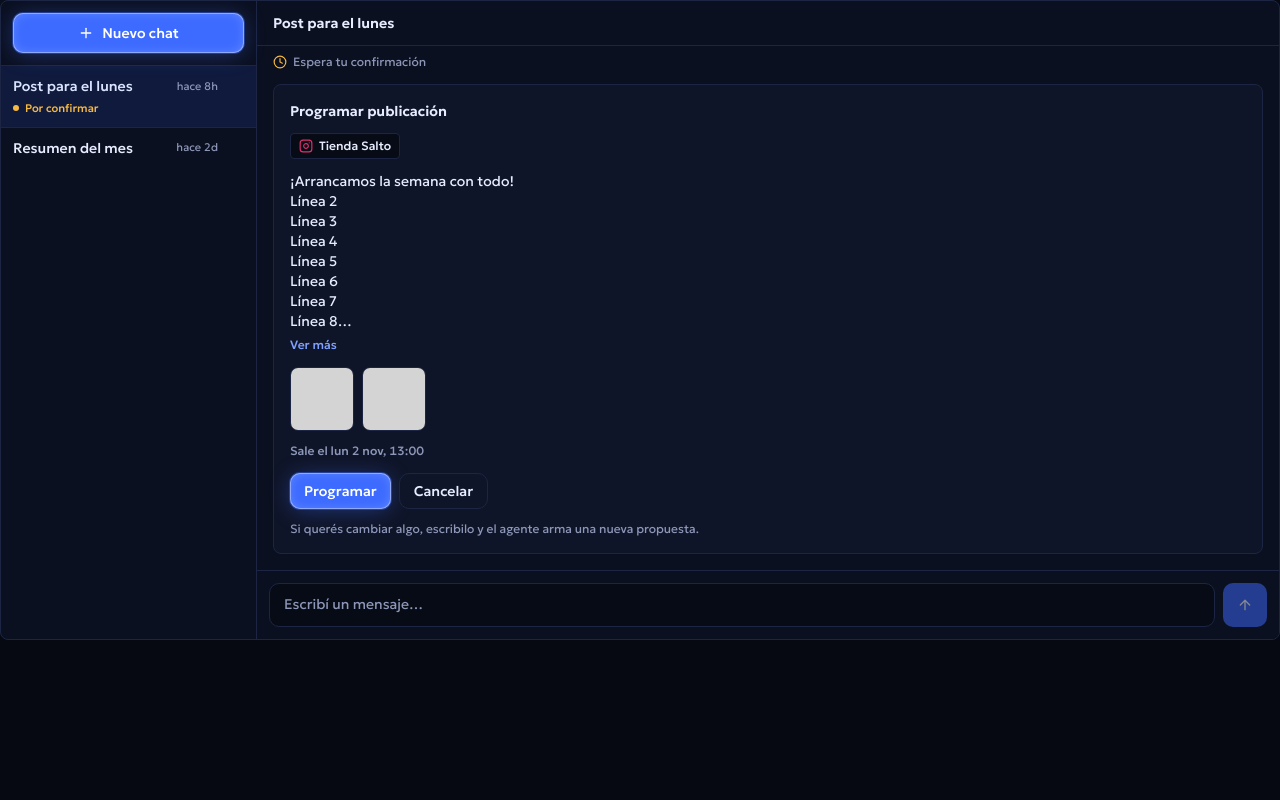
it: Agente — tarjeta de confirmación (confirmar y cancelar) › renderiza la vista previa y al confirmar pega a /actions/{id}/confirm, actualiza el chat e invalida publicaciones
(page scrolled)
Check: the heading "Programar publicación" is shown, box [290,102,447,120]
Check: the text "Tienda Salto" is shown, box [319,138,391,154]
# Long text offers "Ver más"
What coordinates should you click on to do the following:
click the button "Ver más"
I would click on:
 (313, 344)
Its box is [290,336,337,352].
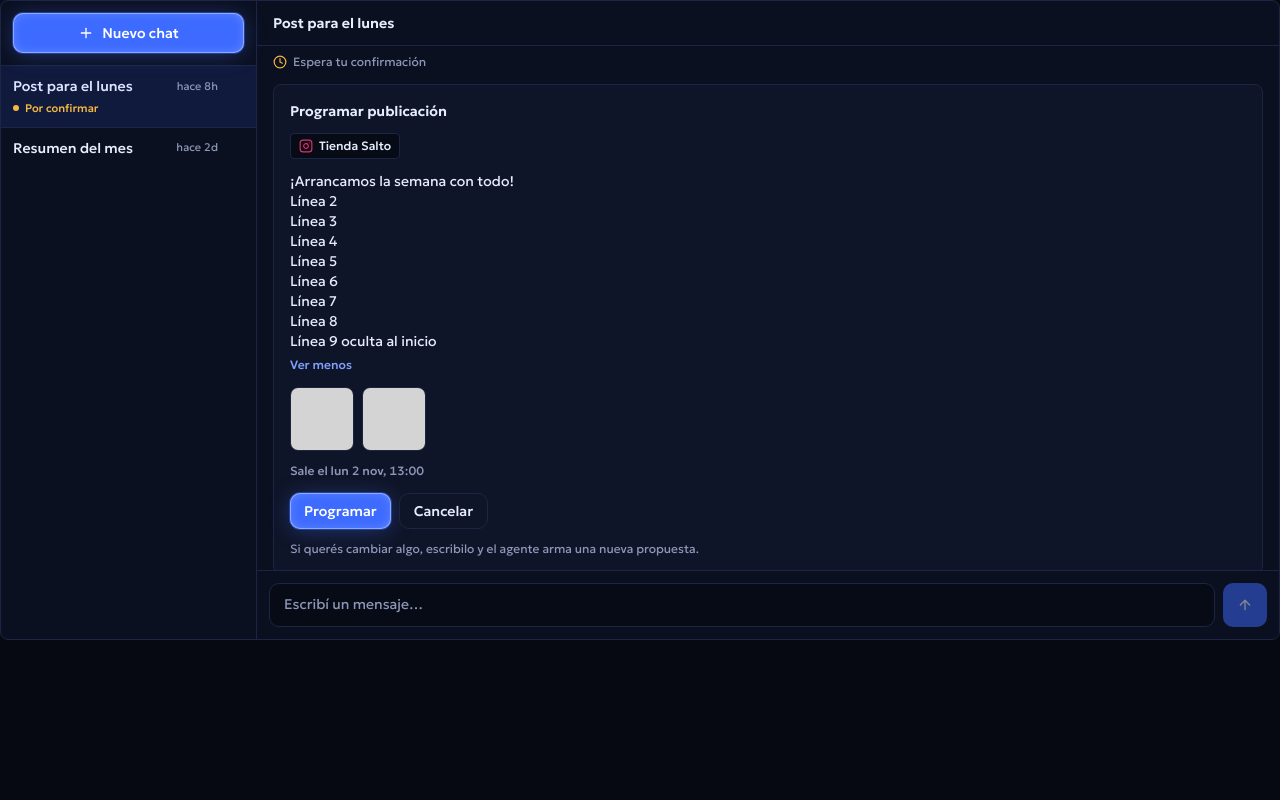
Check: the button "Ver menos" is shown, box [290,356,352,372]
# Confirm action
What coordinates should you click on to do the following:
click the button "Programar"
I would click on:
 (340, 510)
Its box is [290,492,391,528].
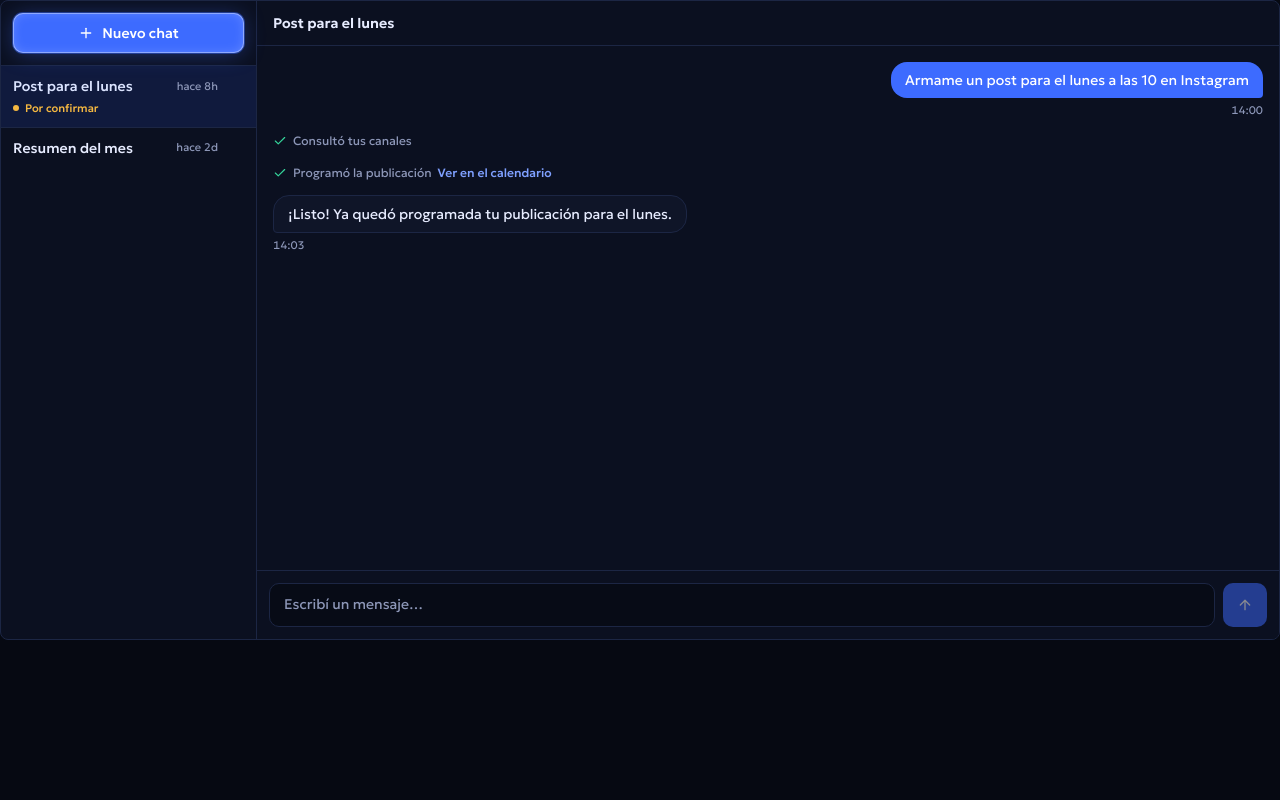
Check: the text "¡Listo! Ya quedó programada tu publicación para el lunes." is shown, box [288,204,672,224]
Check: the element with test id "agent-pending-action-card" is gone
